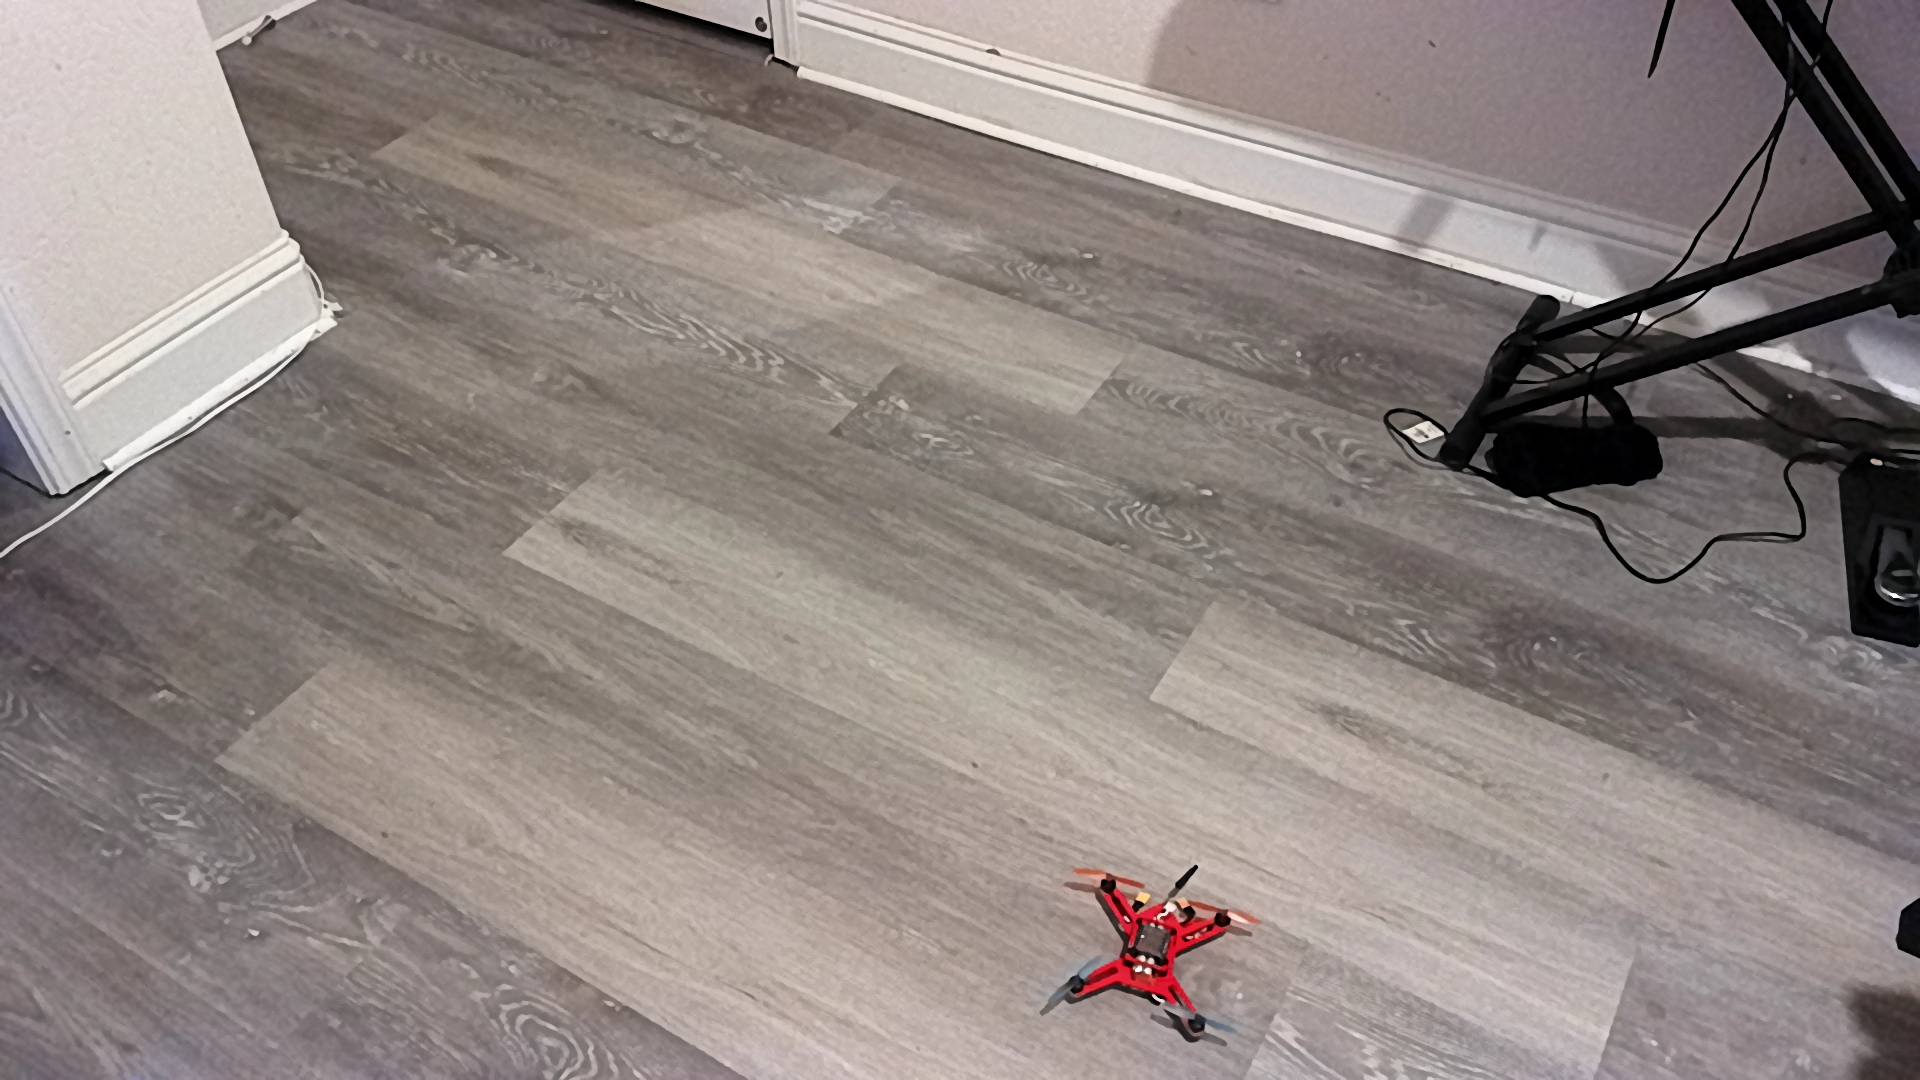drone: (1029, 853, 1294, 1054)
